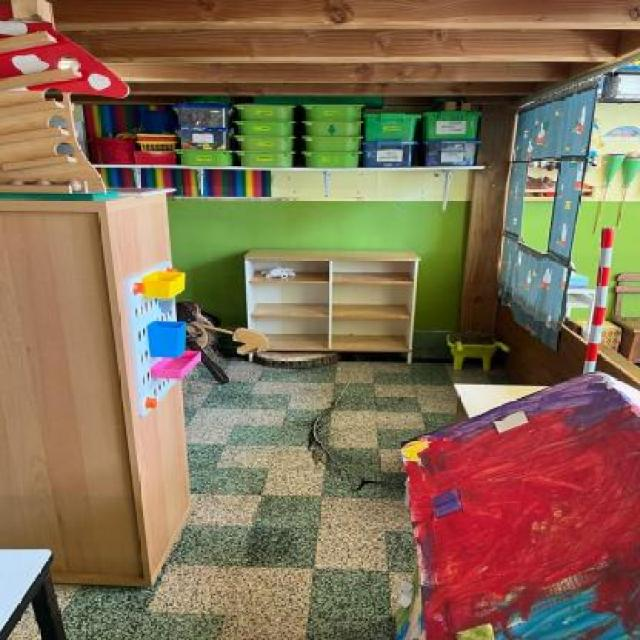floor: (56, 352, 510, 640), (9, 604, 44, 639)
